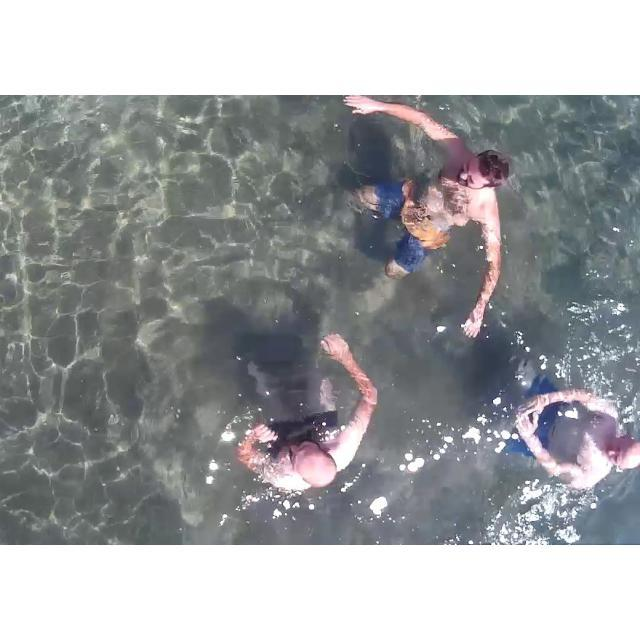human: (333, 95, 511, 347), (235, 307, 379, 499), (502, 351, 631, 505)
